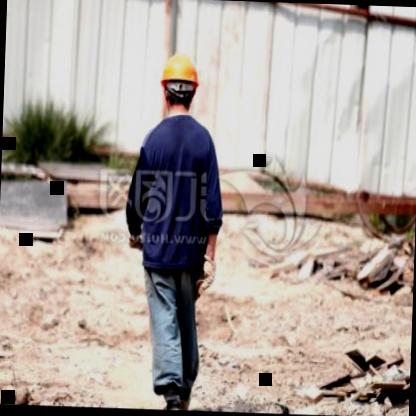helmet: (156, 47, 204, 117)
